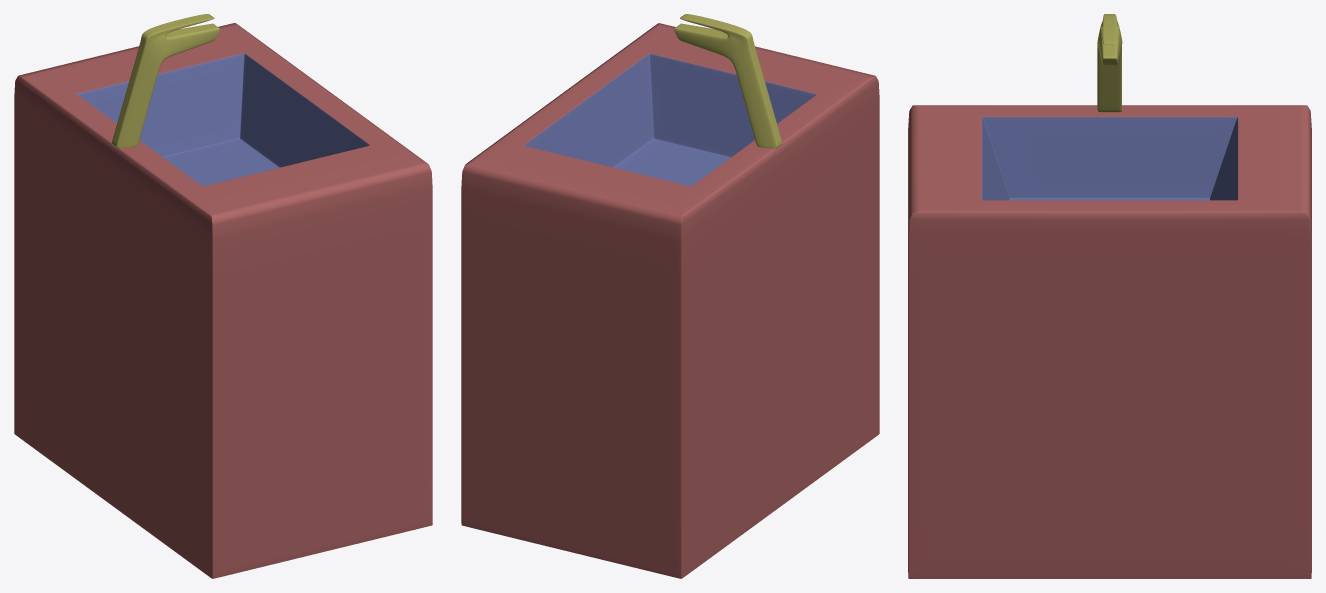
The model's file is Waschbecken_1_high.fbx.
3 renders of one model, left to right at view 1: azimuth 30°, elevation 25°; view 2: azimuth 150°, elevation 25°; view 3: azimuth 270°, elevation 25°, orthographic.
Parts seen in each view (by area): view 1: pCube2; view 2: pCube2; view 3: pCube2.
Boxes of the visible parts, <box> form: pCube2: <box>14,14,432,578</box>; pCube2: <box>461,14,879,578</box>; pCube2: <box>908,14,1311,578</box>.
Size of the model in its own units: 0.6417 by 1.3 by 1.
